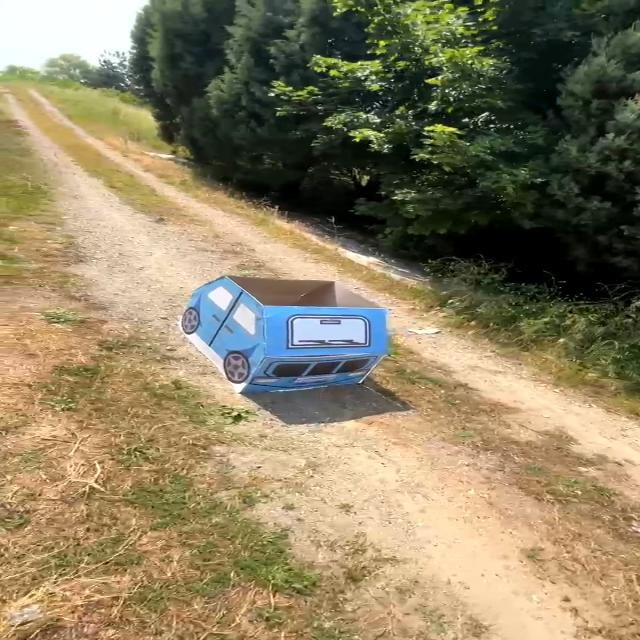blue_car: (150, 254, 422, 413)
